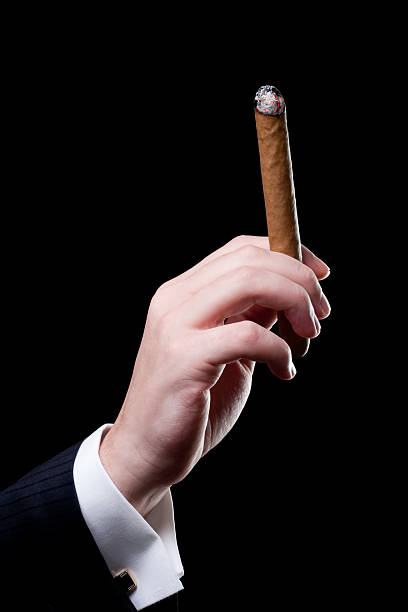cigarette: (255, 81, 310, 359)
